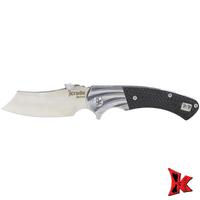knife: (1, 82, 200, 129)
